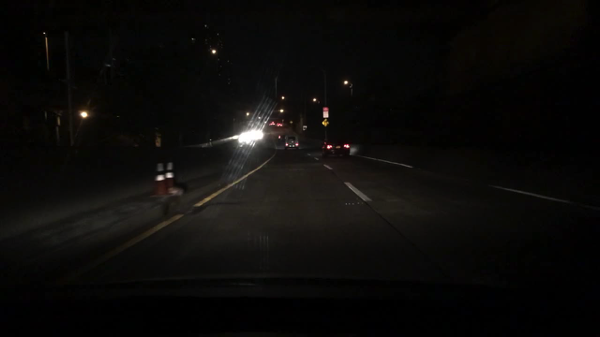car: (321, 135, 350, 159), (242, 129, 264, 142), (284, 134, 300, 150), (275, 120, 284, 128), (278, 135, 285, 142), (269, 120, 275, 127)
traffic sign: (154, 132, 162, 148), (323, 107, 329, 118), (321, 120, 329, 127), (289, 119, 294, 125)
